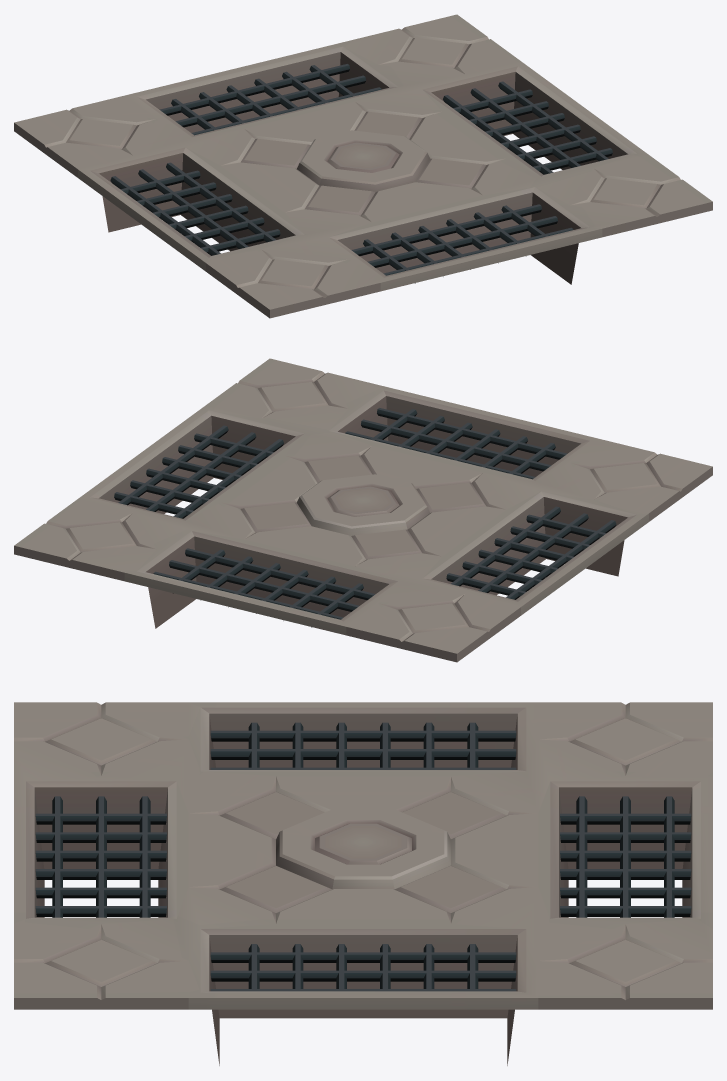
Rendered from floor-tile-extralarge-grates-open-gltf.glb.
3 views of the same model, one above another, from view 1: azimuth 30°, elevation 25°; view 2: azimuth 150°, elevation 25°; view 3: azimuth 270°, elevation 25° (orthographic). The views are drawn at different scales.
Visible parts, largest first — view 1: floor_tile_extralarge_grates_open; view 2: floor_tile_extralarge_grates_open; view 3: floor_tile_extralarge_grates_open.
Part boxes in pixels (<box>): floor_tile_extralarge_grates_open: <box>14,14,712,318</box>; floor_tile_extralarge_grates_open: <box>14,358,712,662</box>; floor_tile_extralarge_grates_open: <box>14,702,712,1065</box>.
Size of the model in its own units: 8 by 1.13 by 8.
Materials: 1 (1 with a texture image).
